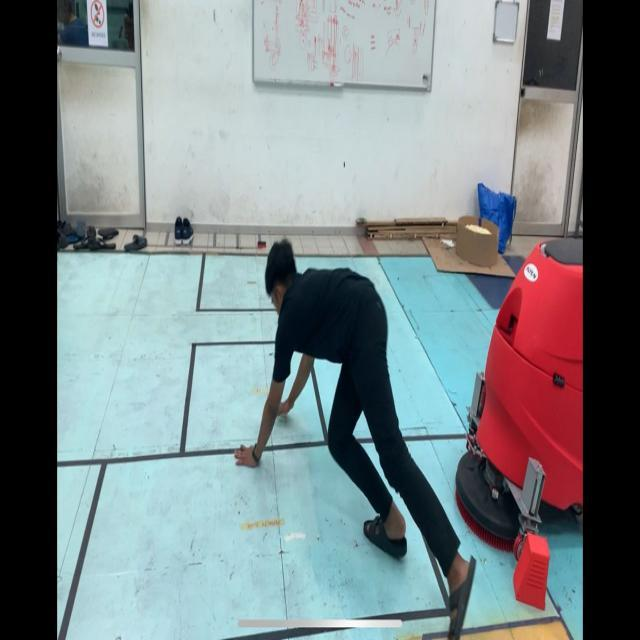fall: (237, 236, 476, 624)
